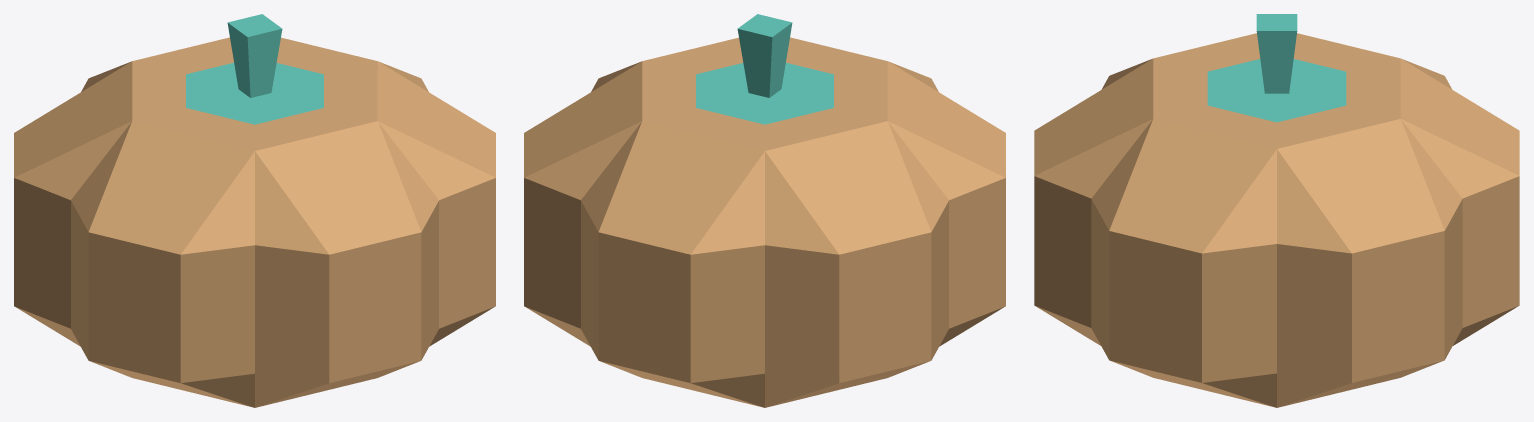
Rendered from crop_pumpkin.glb.
3 views of the same model, side by side, from view 1: azimuth 30°, elevation 25°; view 2: azimuth 150°, elevation 25°; view 3: azimuth 270°, elevation 25° (orthographic).
Visible parts, largest first — view 1: crop_pumpkin; view 2: crop_pumpkin; view 3: crop_pumpkin.
Boxes of the visible parts, x1,y1,x2,y2 form: crop_pumpkin: (14,14,495,407); crop_pumpkin: (524,14,1005,407); crop_pumpkin: (1034,14,1519,407).
Bounding box in the file's own units: 0.4413 × 0.3338 × 0.4519.
